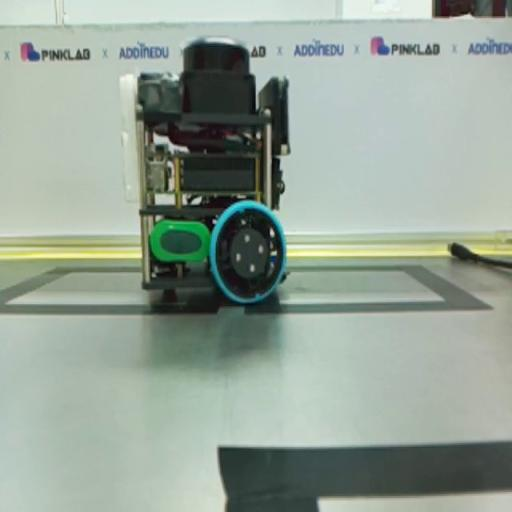pinky_63: (119, 36, 290, 304)
